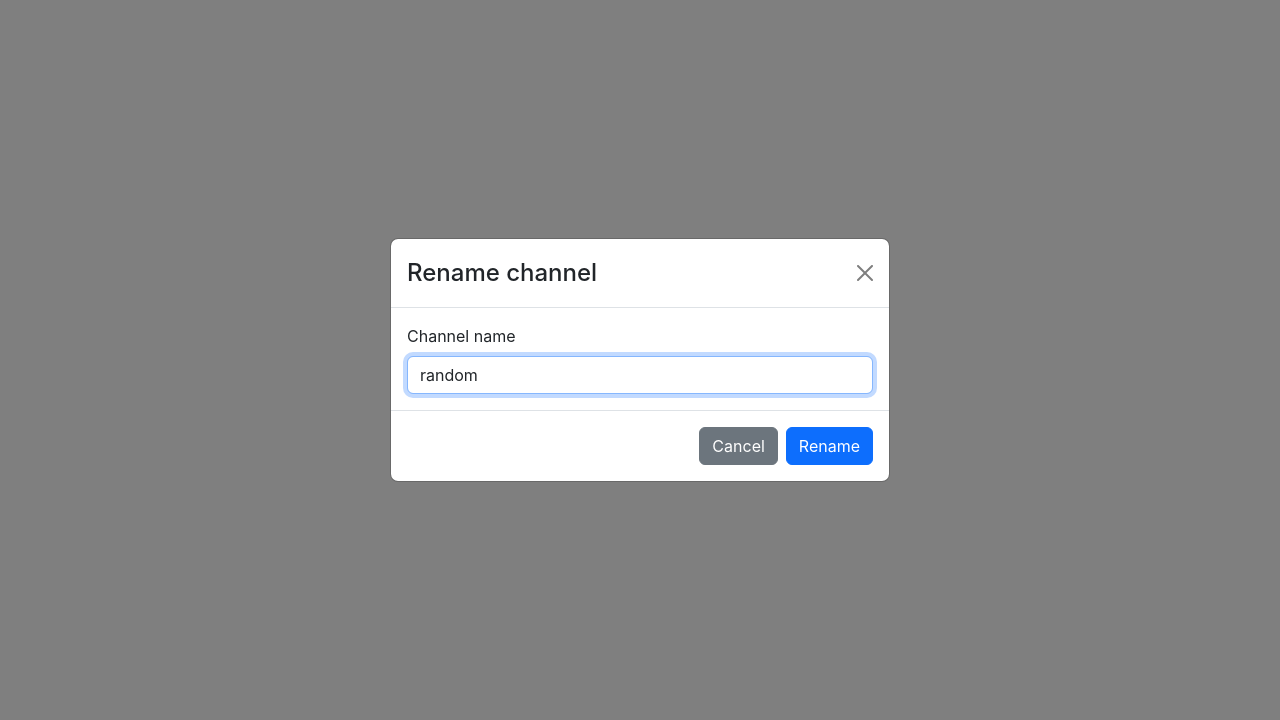
RenameChannelModal › shows validation error when channel name already exists
This screenshot has width=1280, height=720.
Replace the text in the field labelled "Channel name" with "general" at (640, 375), box [407,356,873,394]
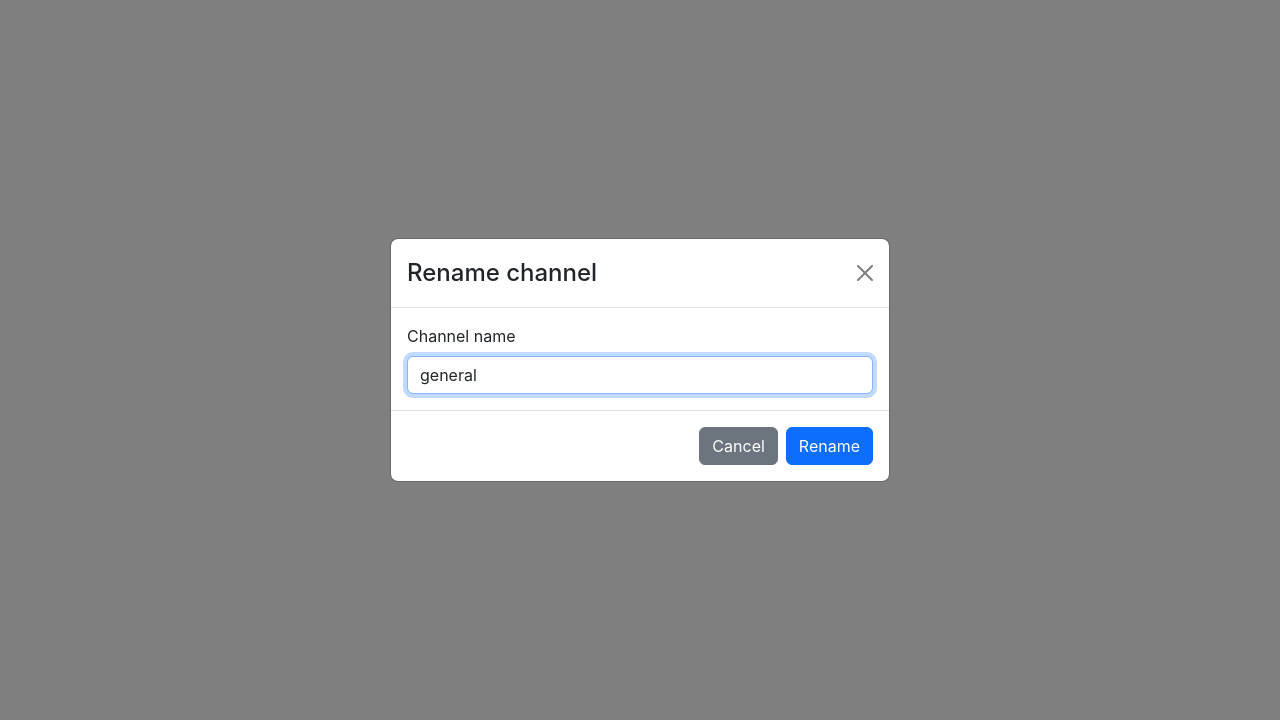
Click the button "Rename" at (829, 446), box [786,427,873,465]
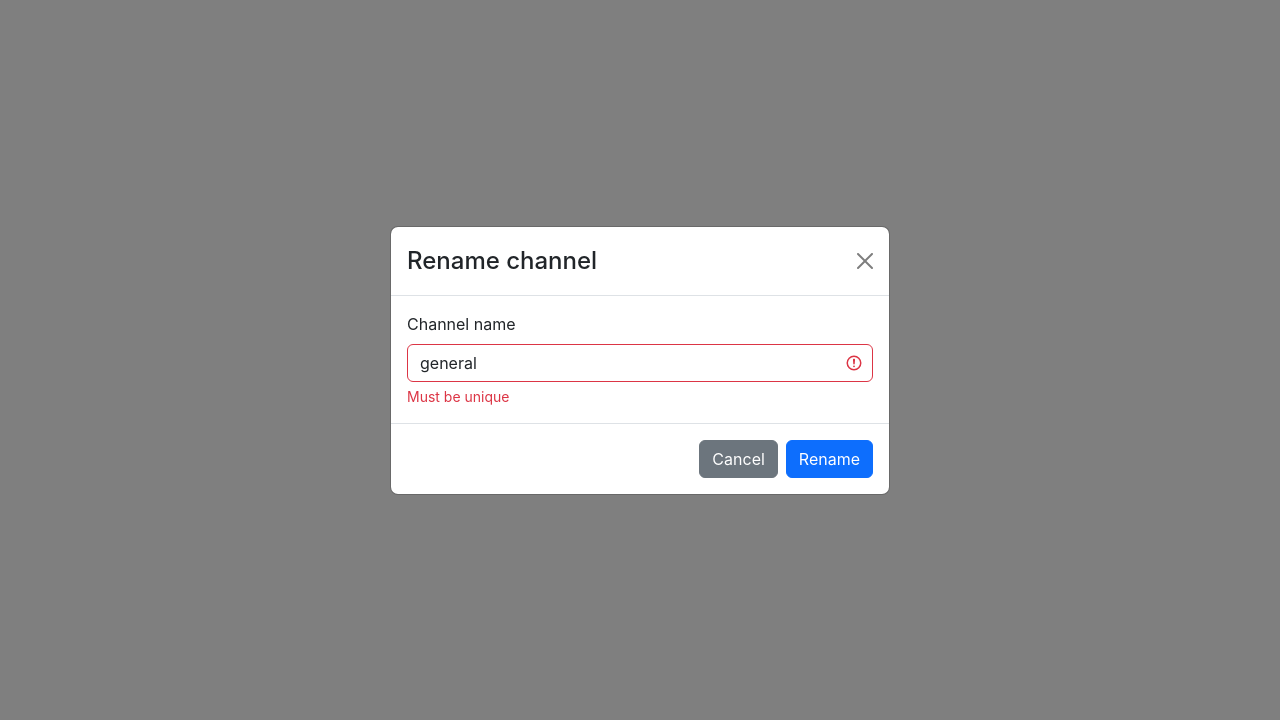
Result: the text "Must be unique" is shown at [407,388,510,404]
